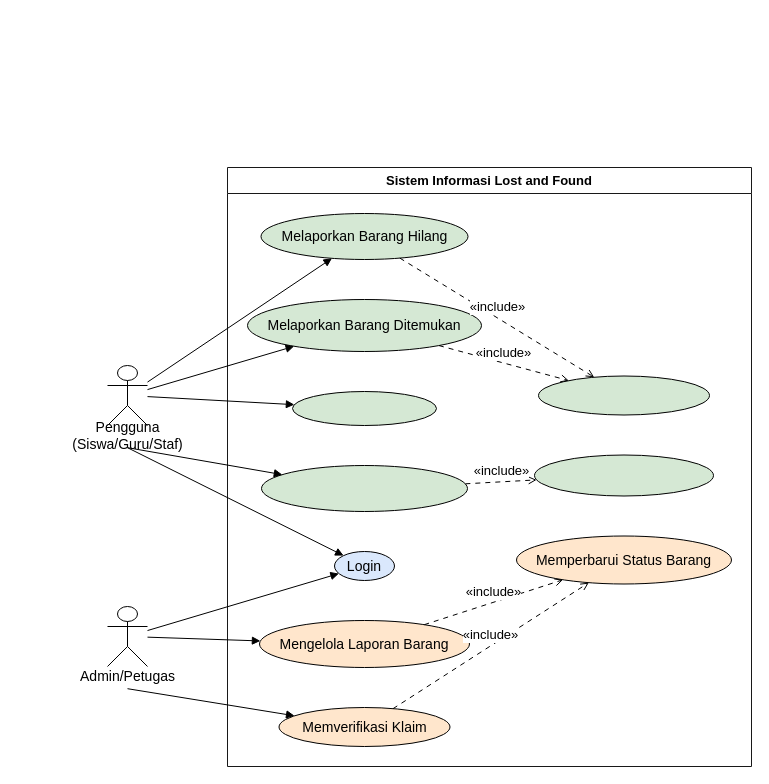
The diagram is 769 pixels wide and 784 high, and some of its shapes have lost their labels. Each missing label, with the centre of its shape:
"Melihat Detail Barang" goes at pixel 624 475.
"Mencari Barang" goes at pixel 364 408.
"Mengajukan Klaim Barang" goes at pixel 364 488.
"Mengisi Data Barang" goes at pixel 624 395.
